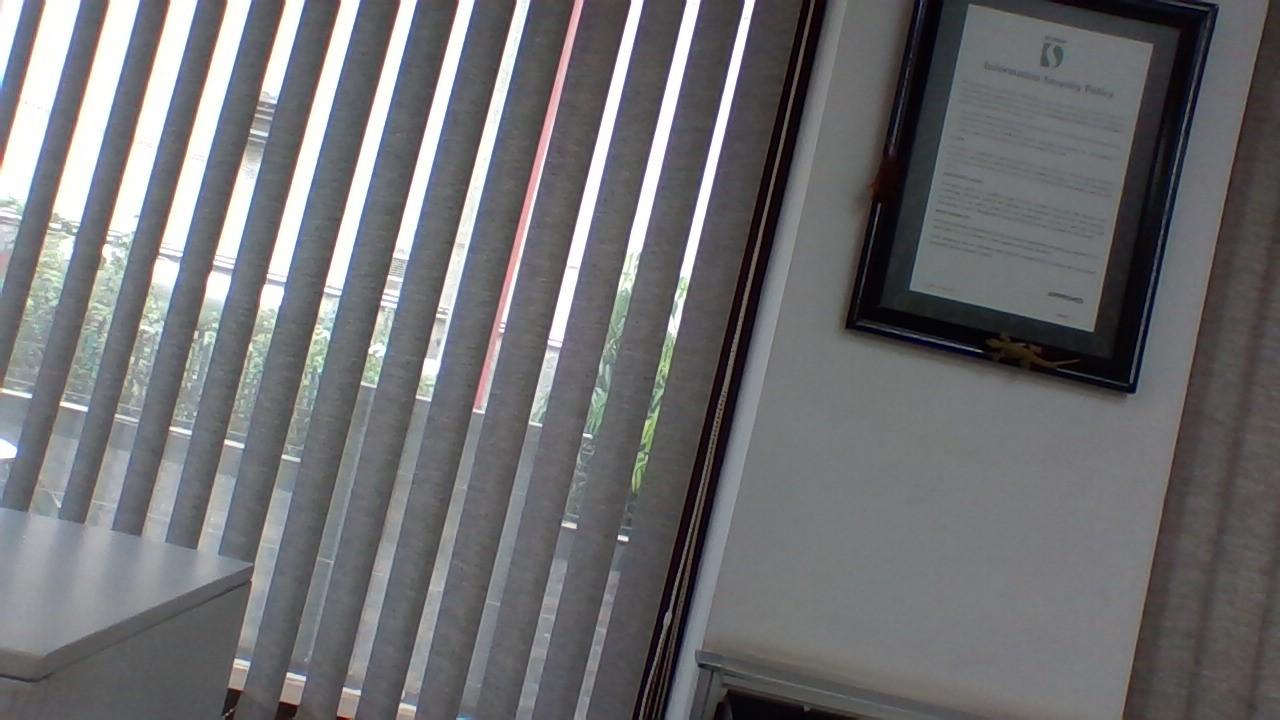cockroach: (863, 128, 908, 220)
lizard: (973, 323, 1089, 389)
